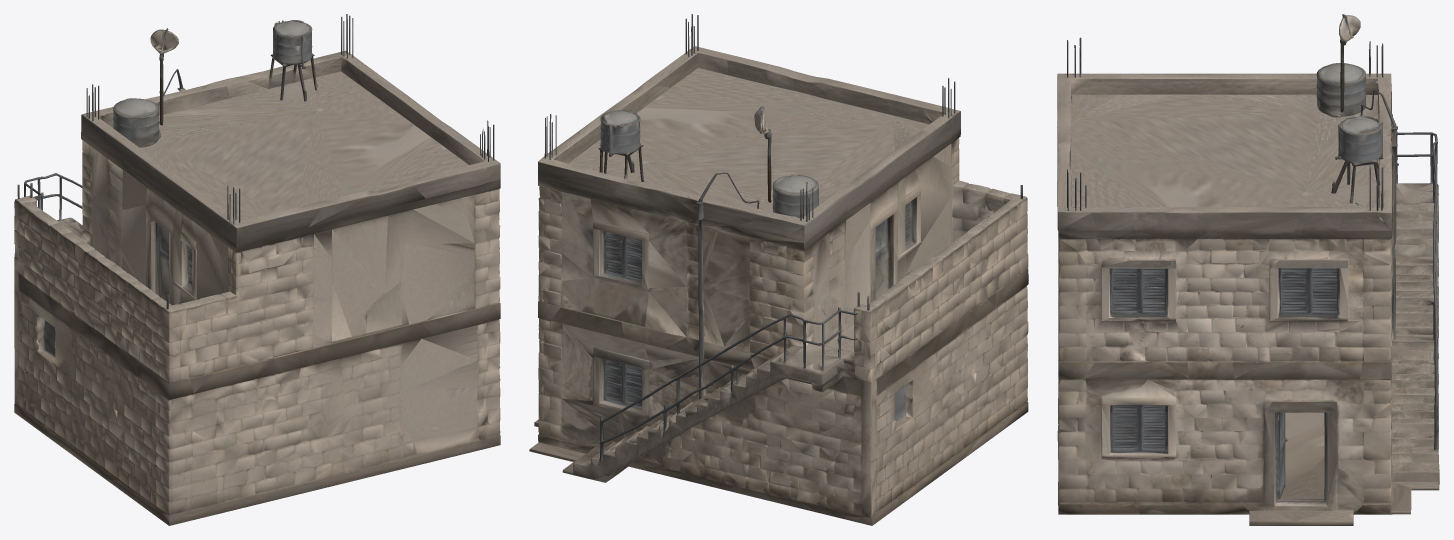
The model's file is house.glb.
3 renders of one model, left to right at view 1: azimuth 30°, elevation 25°; view 2: azimuth 150°, elevation 25°; view 3: azimuth 270°, elevation 25°, orthographic. The views are drawn at different scales.
Visible parts, largest first — view 1: wall, trim, metal, roof; view 2: wall, metal, trim, roof; view 3: wall, trim, metal, glass, roof.
Boxes of the visible parts, x1,y1,x2,y2 form: wall: [14, 37, 500, 525]; trim: [15, 71, 474, 358]; metal: [14, 14, 500, 272]; roof: [82, 50, 499, 228]; wall: [534, 24, 1028, 525]; metal: [529, 14, 955, 504]; trim: [568, 68, 1026, 352]; roof: [538, 46, 960, 225]; wall: [1057, 62, 1397, 525]; trim: [1058, 94, 1392, 499]; metal: [1057, 14, 1439, 514]; glass: [1101, 260, 1360, 505]; roof: [1057, 73, 1397, 213].
Bounding box in the file's own units: 12.79 × 12.71 × 11.13.
Materials: 1 (1 with a texture image).
